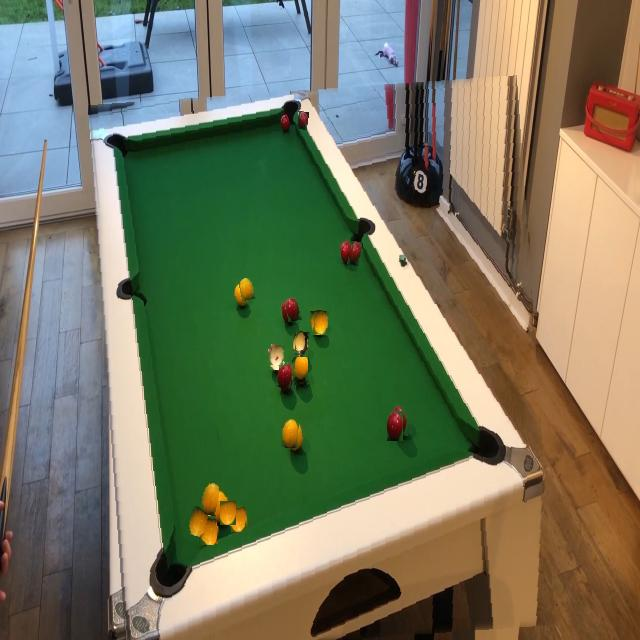Ball: (200, 482, 220, 516), (187, 506, 208, 537), (281, 419, 299, 448), (387, 411, 403, 441), (276, 362, 293, 388), (285, 296, 301, 322), (239, 277, 255, 301), (220, 501, 236, 525), (294, 332, 310, 356), (293, 358, 308, 383), (314, 310, 328, 335), (348, 242, 362, 266), (270, 345, 284, 366), (298, 112, 308, 130)
Billiard table: (97, 82, 546, 640)
